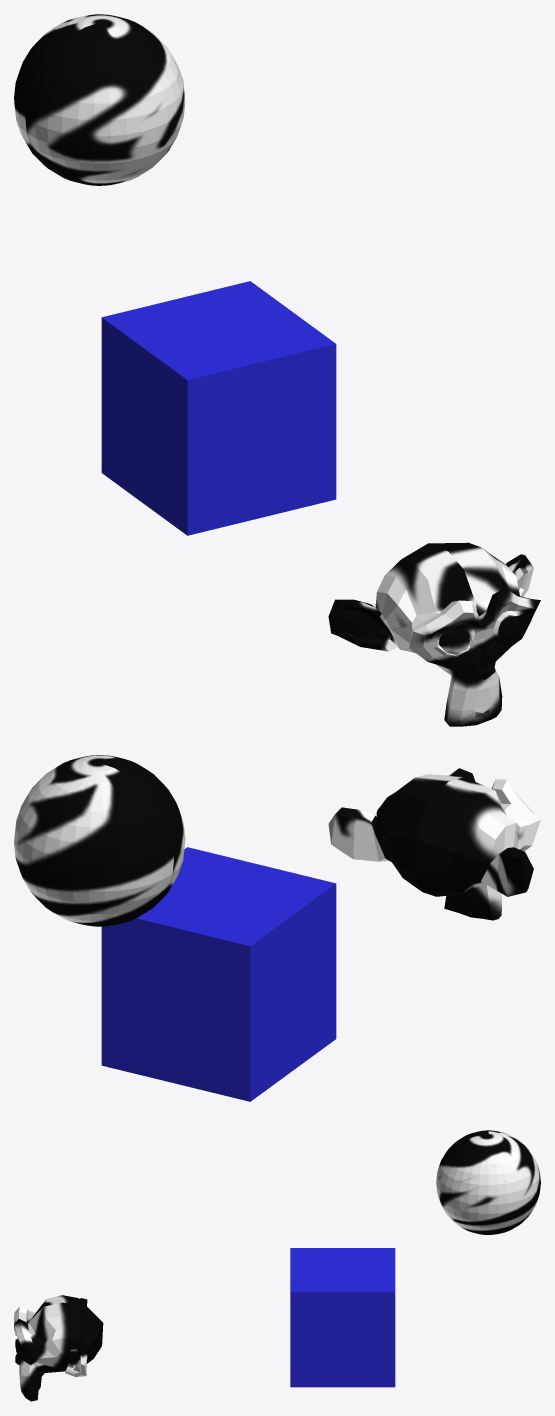
3 renders of one model, top to bottom at view 1: azimuth 30°, elevation 25°; view 2: azimuth 150°, elevation 25°; view 3: azimuth 270°, elevation 25°, orthographic. The views are drawn at different scales.
Visible parts, largest first — view 1: Cube, Sphere, Suzanne; view 2: Cube, Sphere, Suzanne; view 3: Cube, Sphere, Suzanne.
Part boxes in pixels (<box>): Cube: <box>101,281,336,535</box>; Sphere: <box>14,14,185,185</box>; Suzanne: <box>328,542,540,726</box>; Cube: <box>101,847,336,1101</box>; Sphere: <box>14,755,185,926</box>; Suzanne: <box>328,768,540,920</box>; Cube: <box>290,1248,395,1387</box>; Sphere: <box>436,1130,540,1235</box>; Suzanne: <box>14,1295,103,1401</box>.
Size of the model in its own units: 2.73 by 5.49 by 10.05.
Materials: 3 (2 with a texture image).
